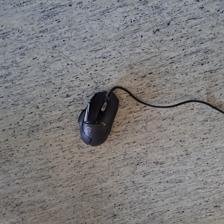mouse: (78, 90, 120, 147)
